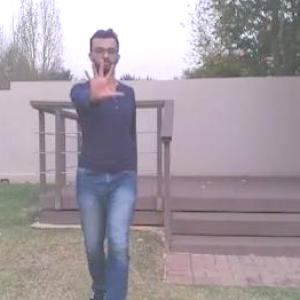follow_hand: (79, 56, 126, 102)
